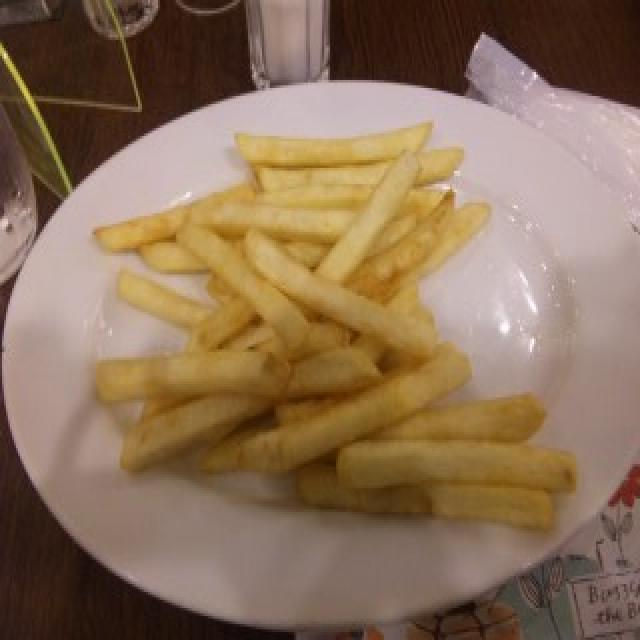French Fries: (102, 120, 574, 532)
